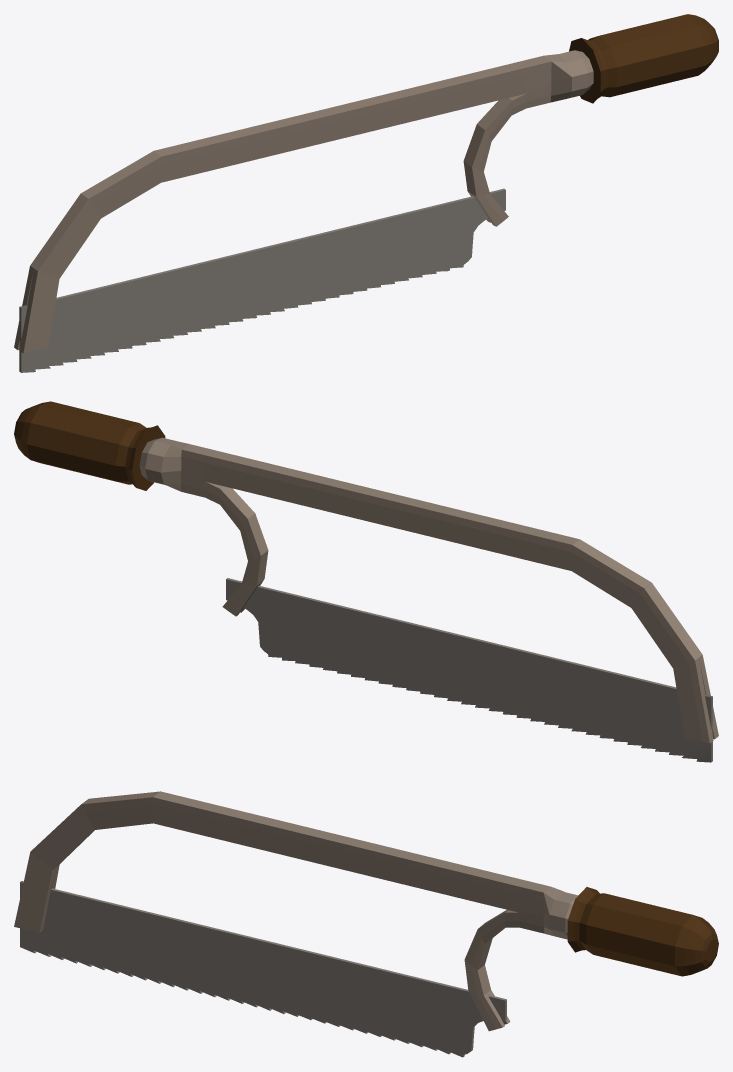
Rendered from hacksaw.glb.
3 views of the same model, one above another, from view 1: azimuth 30°, elevation 25°; view 2: azimuth 150°, elevation 25°; view 3: azimuth 330°, elevation 25° (orthographic).
Parts seen in each view (by area): view 1: Cylinder, Cylinder.001; view 2: Cylinder, Cylinder.001; view 3: Cylinder, Cylinder.001.
Part boxes in pixels (box(x1,y1,x2,y2)): Cylinder: box(14, 14, 718, 353); Cylinder.001: box(19, 188, 505, 372); Cylinder: box(14, 401, 718, 743); Cylinder.001: box(226, 578, 712, 762); Cylinder: box(14, 791, 718, 1031); Cylinder.001: box(20, 881, 506, 1057).
Bounding box in the file's own units: 24.68 × 6.75 × 2.05.
Materials: 2 (2 with a texture image).
